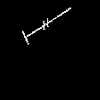treble_crochet: (22, 8, 70, 43)
